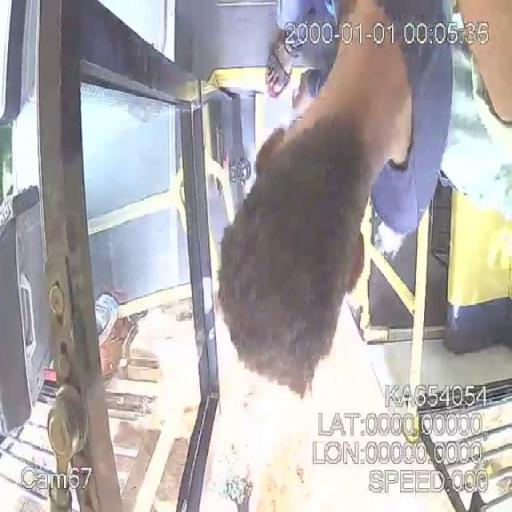persona: (216, 0, 511, 400)
